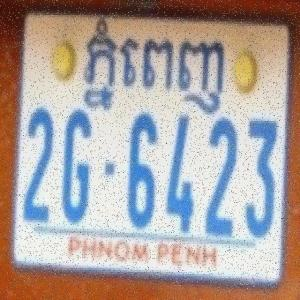Plate: (13, 5, 287, 292)
